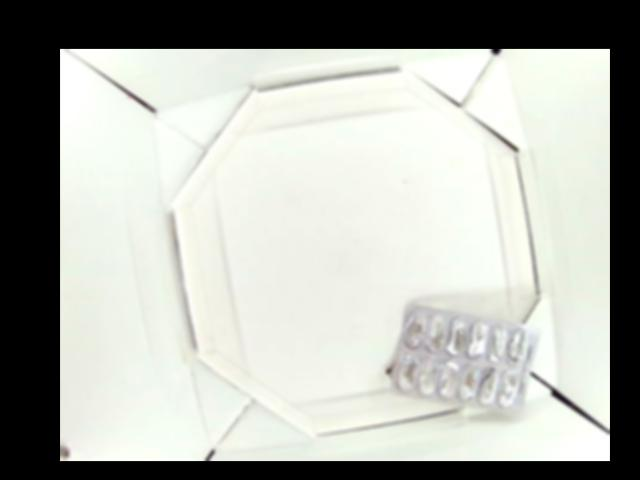Medicine: (386, 303, 539, 414)
